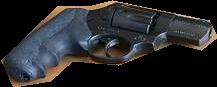gun: (1, 0, 217, 87)
